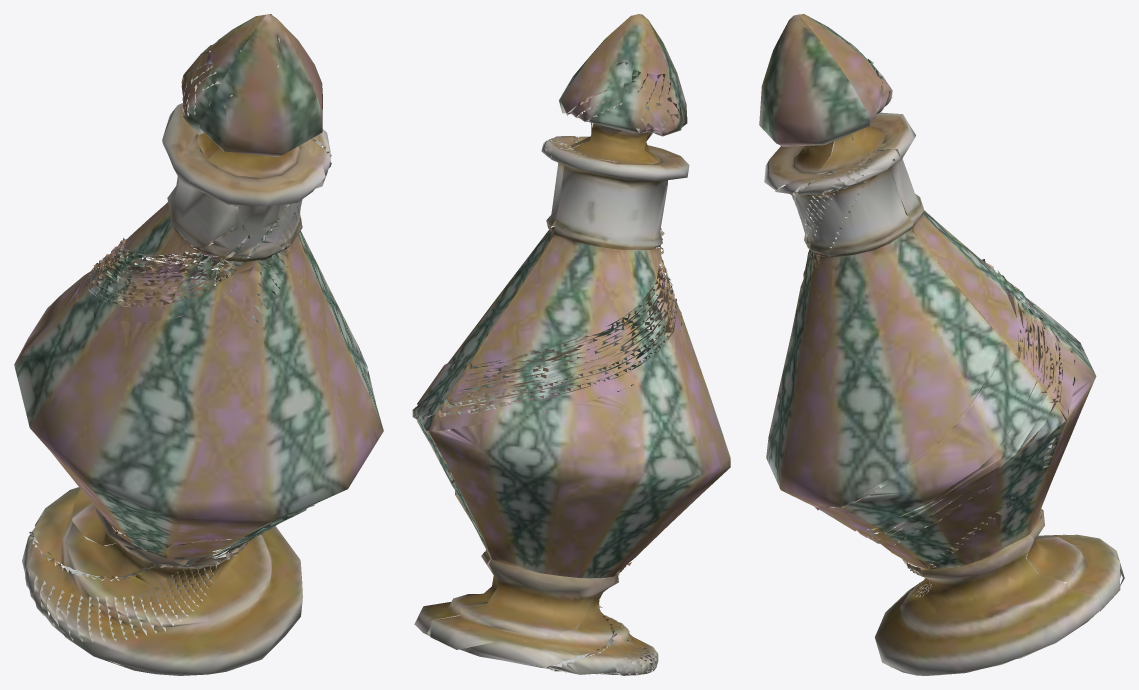
Rendered from obj_perfume_bottle.glb.
3 renders of one model, left to right at view 1: azimuth 30°, elevation 25°; view 2: azimuth 150°, elevation 25°; view 3: azimuth 270°, elevation 25°, orthographic. The views are drawn at different scales.
Parts seen in each view (by area): view 1: Object_2; view 2: Object_2; view 3: Object_2.
Boxes of the visible parts, box(x1,y1,x2,y2) form: Object_2: box(14, 14, 383, 675); Object_2: box(412, 14, 730, 675); Object_2: box(759, 14, 1124, 675).
Bounding box in the file's own units: 0.0735 × 0.1503 × 0.0786.
1 material, 1 textured.
